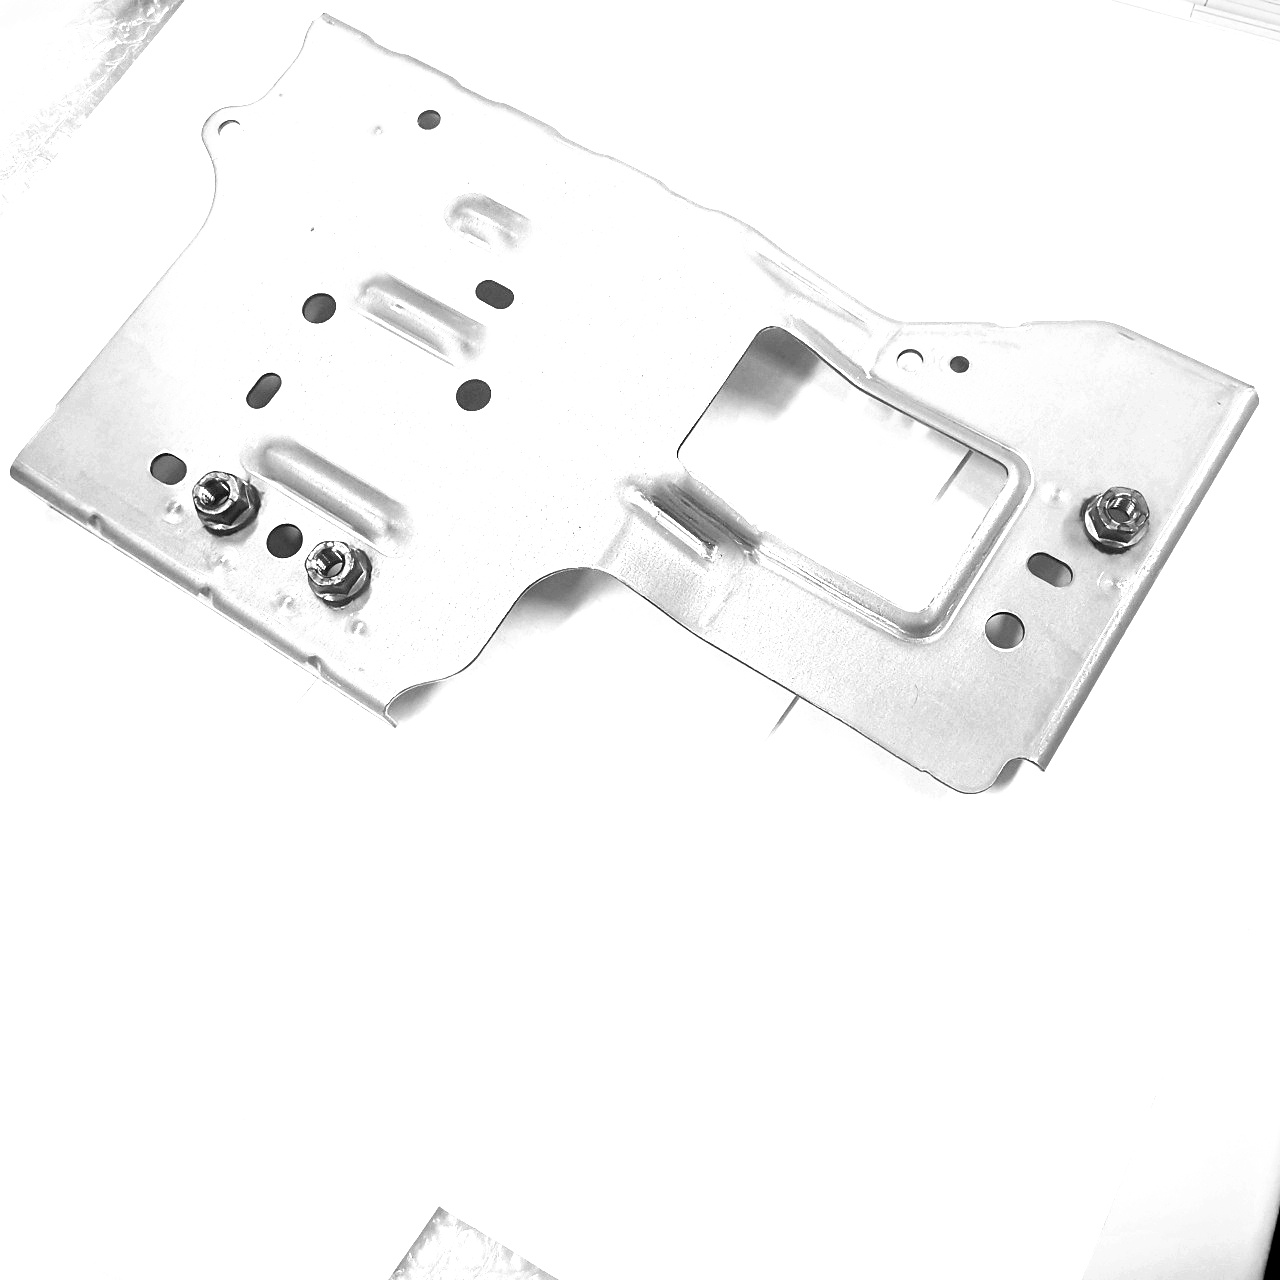dog: (1074, 481, 1156, 558), (300, 535, 376, 610), (186, 468, 264, 538)
